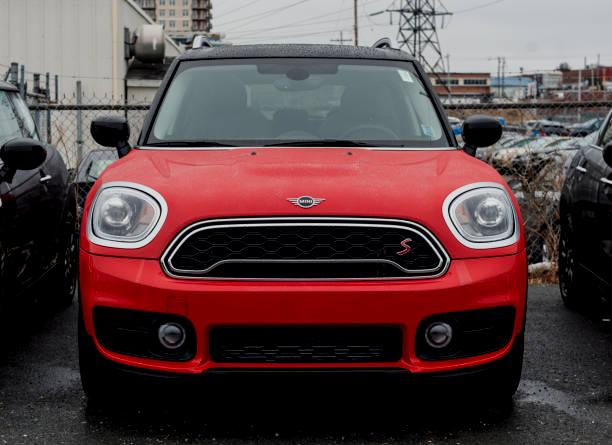mini: (271, 182, 339, 232)
